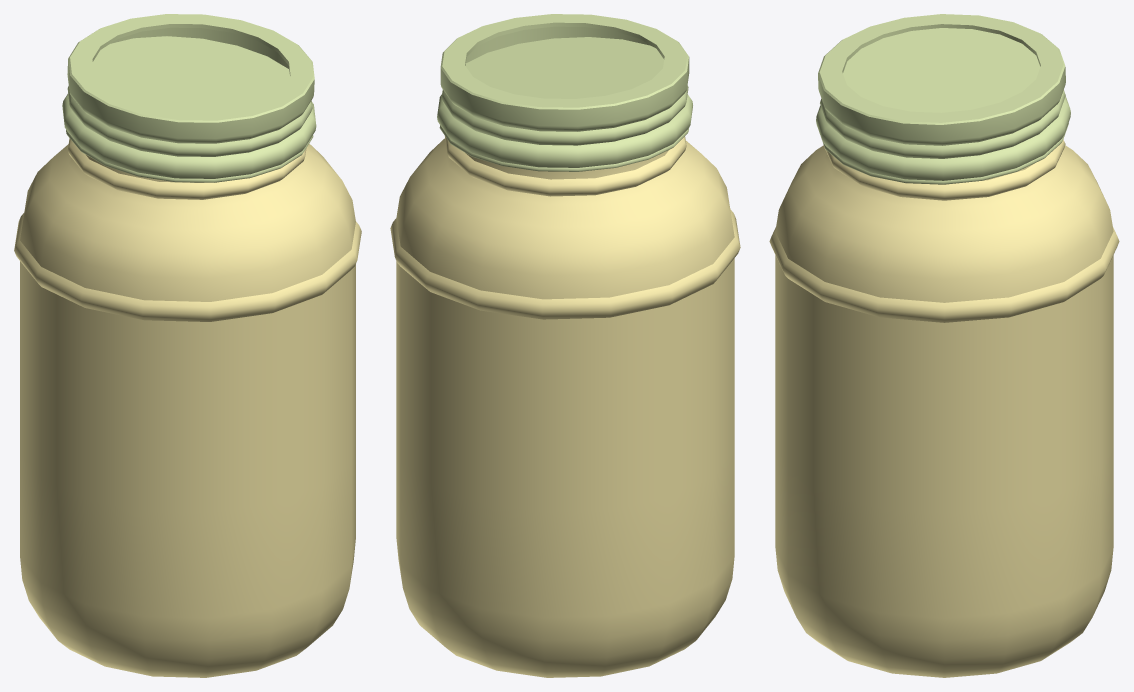
File: urinejar.fbx
3 views of the same model, side by side, from view 1: azimuth 30°, elevation 25°; view 2: azimuth 150°, elevation 25°; view 3: azimuth 270°, elevation 25° (orthographic).
Parts seen in each view (by area): view 1: urinejar_c_urinejar_reference; view 2: urinejar_c_urinejar_reference; view 3: urinejar_c_urinejar_reference.
Boxes of the visible parts, left/top/right/bottom form: urinejar_c_urinejar_reference: left=14, top=14, right=361, bottom=677; urinejar_c_urinejar_reference: left=390, top=14, right=740, bottom=677; urinejar_c_urinejar_reference: left=769, top=14, right=1119, bottom=677.
Bounding box in the file's own units: 544 × 965 × 544.
